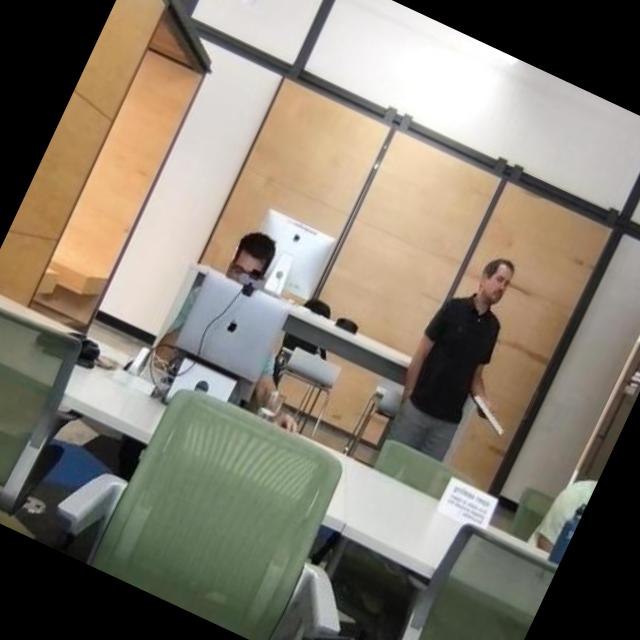bareface: (459, 248, 524, 320)
